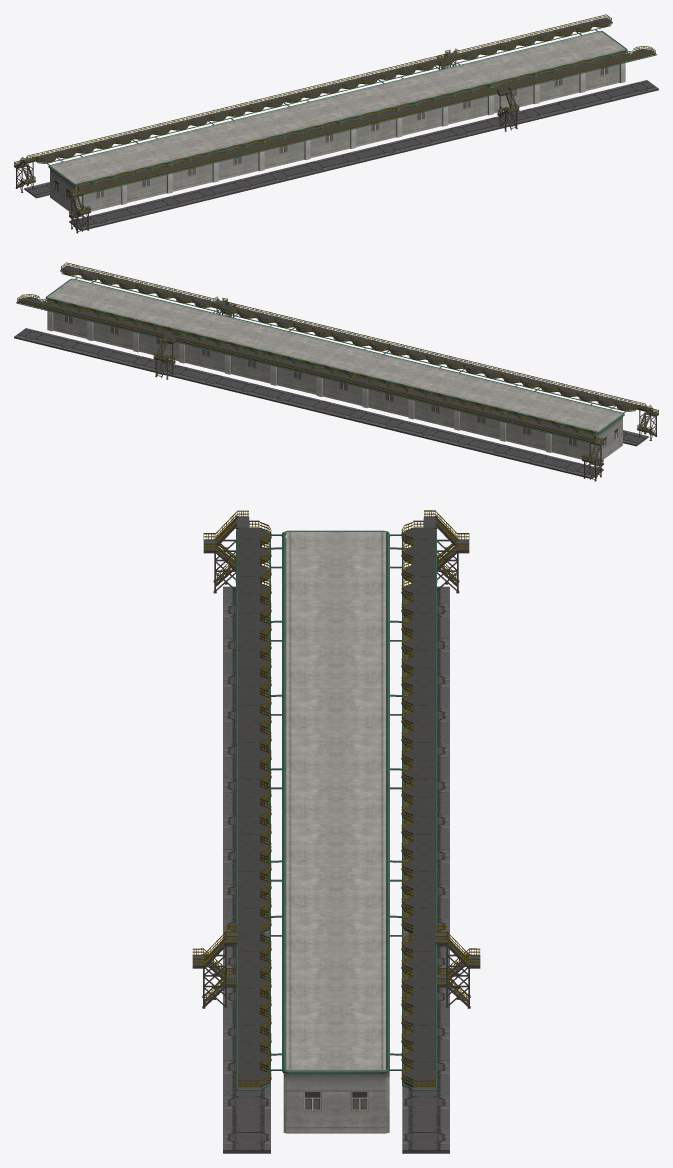
The model's file is filter_room_01.obj.
The picture shows the model from 3 angles, top to bottom: view 1: azimuth 30°, elevation 25°; view 2: azimuth 150°, elevation 25°; view 3: azimuth 270°, elevation 25°; orthographic projection. The views are drawn at different scales.
Parts seen in each view (by area): view 1: Object209, Object078; view 2: Object209, Object078; view 3: Object078, Object209.
Boxes of the visible parts, <box> form: Object209: <box>48,30,627,213</box>; Object078: <box>14,14,658,233</box>; Object209: <box>45,278,624,461</box>; Object078: <box>14,262,658,481</box>; Object078: <box>192,510,480,1153</box>; Object209: <box>282,530,389,1133</box>.
Size of the model in its own units: 337 by 20.36 by 71.7.
